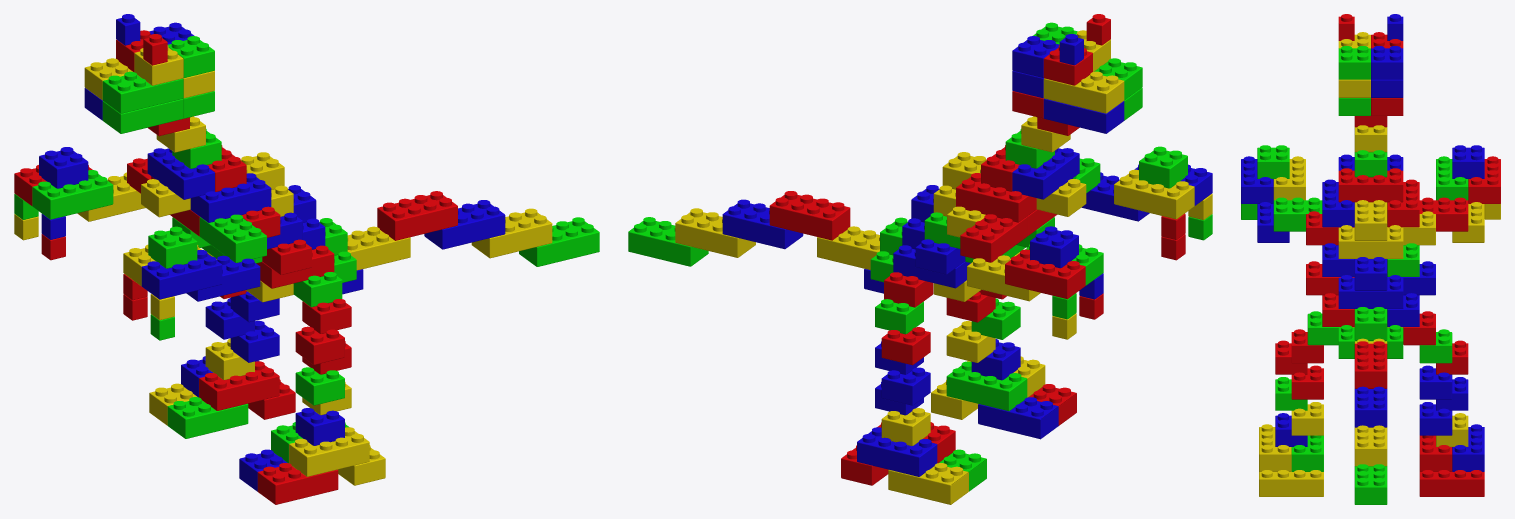
The model's file is BlockasaurusBeveled.fbx.
3 renders of one model, left to right at view 1: azimuth 30°, elevation 25°; view 2: azimuth 150°, elevation 25°; view 3: azimuth 270°, elevation 25°, orthographic. The views are drawn at different scales.
Visible parts, largest first — view 1: Object.032; view 2: Object.032; view 3: Object.032.
Part boxes in pixels (x1,y1,x2,y2): Object.032: [14, 14, 599, 504]; Object.032: [628, 14, 1212, 504]; Object.032: [1241, 14, 1500, 504].
Size of the model in its own units: 2496 by 2130 by 1248.
